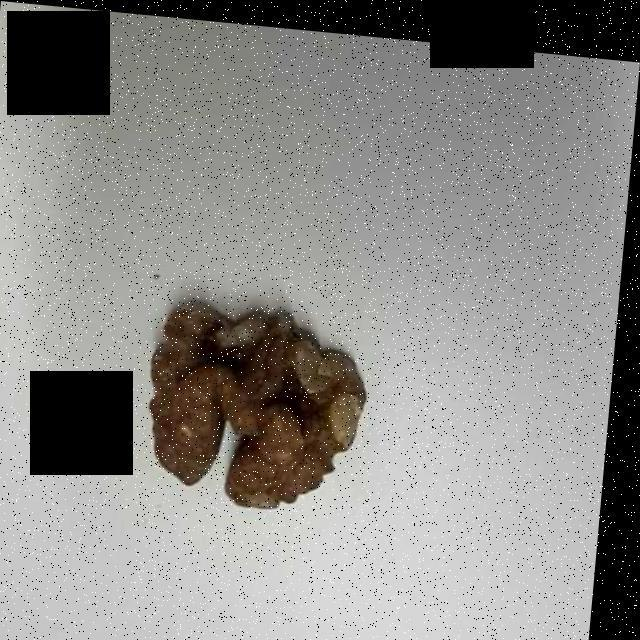walnut: (158, 300, 370, 501)
